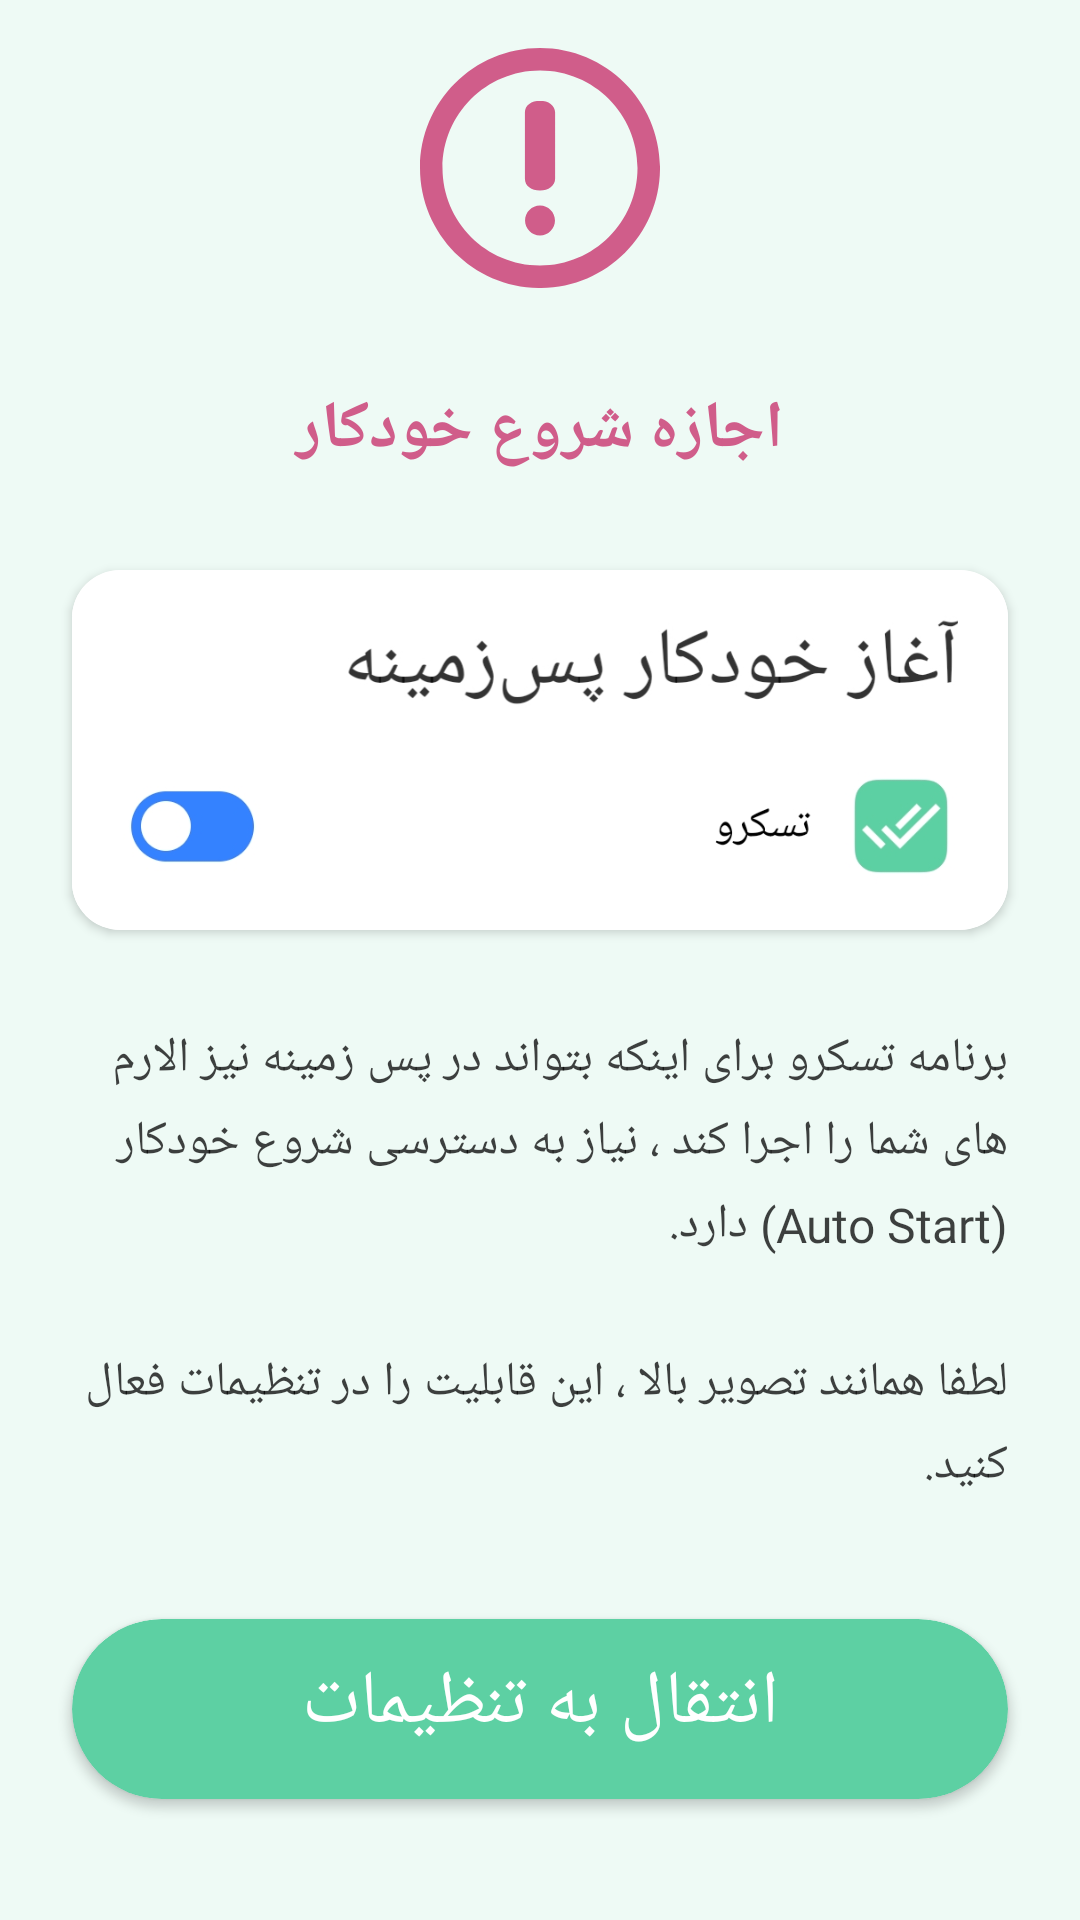

Icon click points for this 1080*1920 phone screenshot, format (x=x, y=y):
exclamation: (x=540, y=168)
